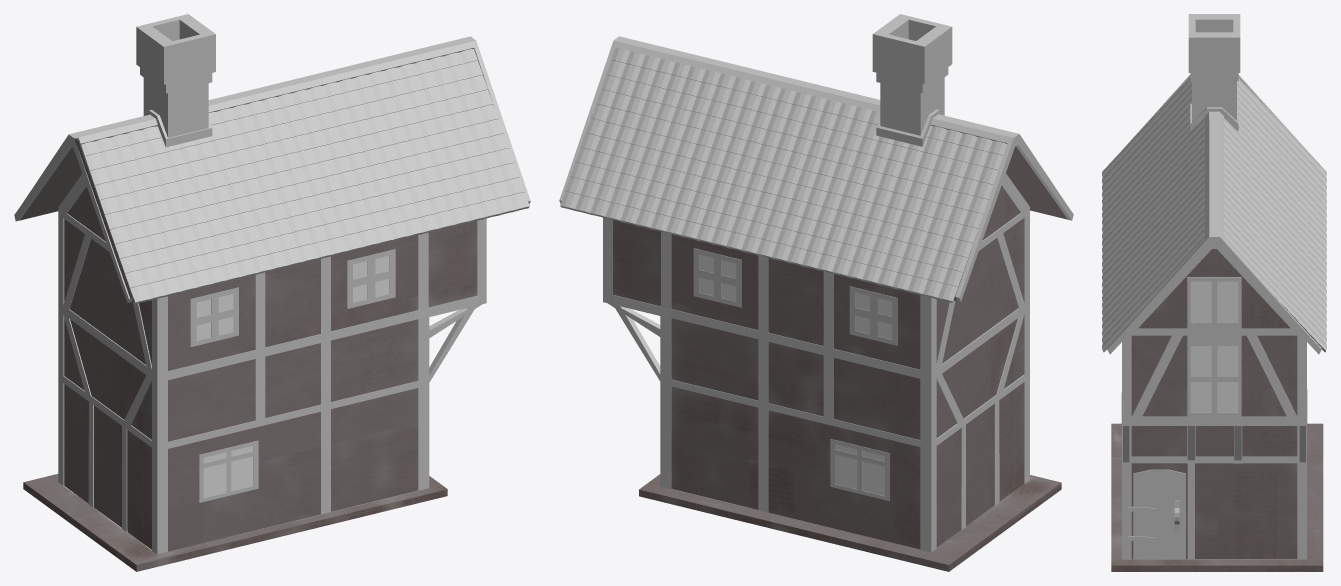
The model's file is House_1_FinalEdit.fbx.
The picture shows the model from 3 angles, left to right: view 1: azimuth 30°, elevation 25°; view 2: azimuth 150°, elevation 25°; view 3: azimuth 270°, elevation 25°; orthographic projection. The views are drawn at different scales.
Visible parts, largest first — view 1: Cube.017, Cube.007, Cube.003, Cube, Cube.005, Cube.002, Cube.004, Cube.010, Cube.001, Cube.011, Cube.008, Cube.009 (+1 smaller); view 2: Cube.017, Cube.007, Cube.003, Cube, Cube.002, Cube.005, Cube.004, Cube.010, Cube.011, Cube.001, Cube.008, Cube.009 (+1 smaller); view 3: Cube.017, Cube.007, Cube.003, Cube, Cube.002, Cube.005, Cube.004, Cube.011, Cube.006, Cube.010, Cube.015, Cube.014.
Boxes of the visible parts, x1,y1,x2,y2 form: Cube.017: (81,49,529,303); Cube.007: (64,318,418,551); Cube.003: (58,174,486,554); Cube: (64,186,476,370); Cube.005: (136,14,215,147); Cube.002: (23,474,447,571); Cube.004: (14,36,530,303); Cube.010: (190,249,395,346); Cube.001: (20,137,134,301); Cube.011: (196,255,389,340); Cube.008: (203,445,253,497); Cube.009: (199,440,258,502); Cube.017: (560,47,1006,302); Cube.007: (671,317,1023,549); Cube.003: (603,173,1029,552); Cube: (612,186,1023,369); Cube.002: (639,474,1061,571); Cube.005: (872,14,952,146); Cube.004: (559,36,1073,301); Cube.010: (693,248,897,345); Cube.011: (699,254,892,339); Cube.001: (954,146,1067,300); Cube.008: (835,444,884,495); Cube.009: (830,439,889,500); Cube.017: (1102,78,1326,352); Cube.007: (1131,426,1297,559); Cube.003: (1121,246,1307,559); Cube: (1131,249,1297,416); Cube.002: (1111,423,1323,571); Cube.005: (1188,14,1240,131); Cube.004: (1107,75,1321,354); Cube.011: (1190,281,1238,412); Cube.006: (1133,469,1185,559); Cube.010: (1187,277,1241,416); Cube.015: (1187,426,1241,460); Cube.014: (1123,426,1305,462).
Bounding box in the file's own units: 1225 × 1393 × 635.
